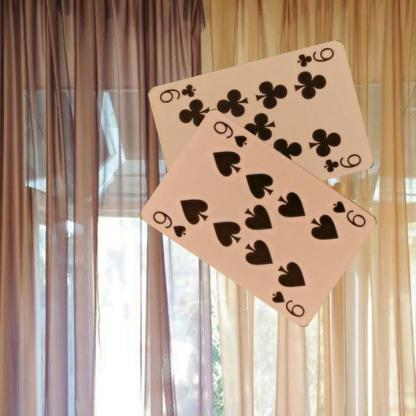9c: (294, 45, 336, 69)
9s: (150, 208, 188, 240), (330, 198, 368, 229)
